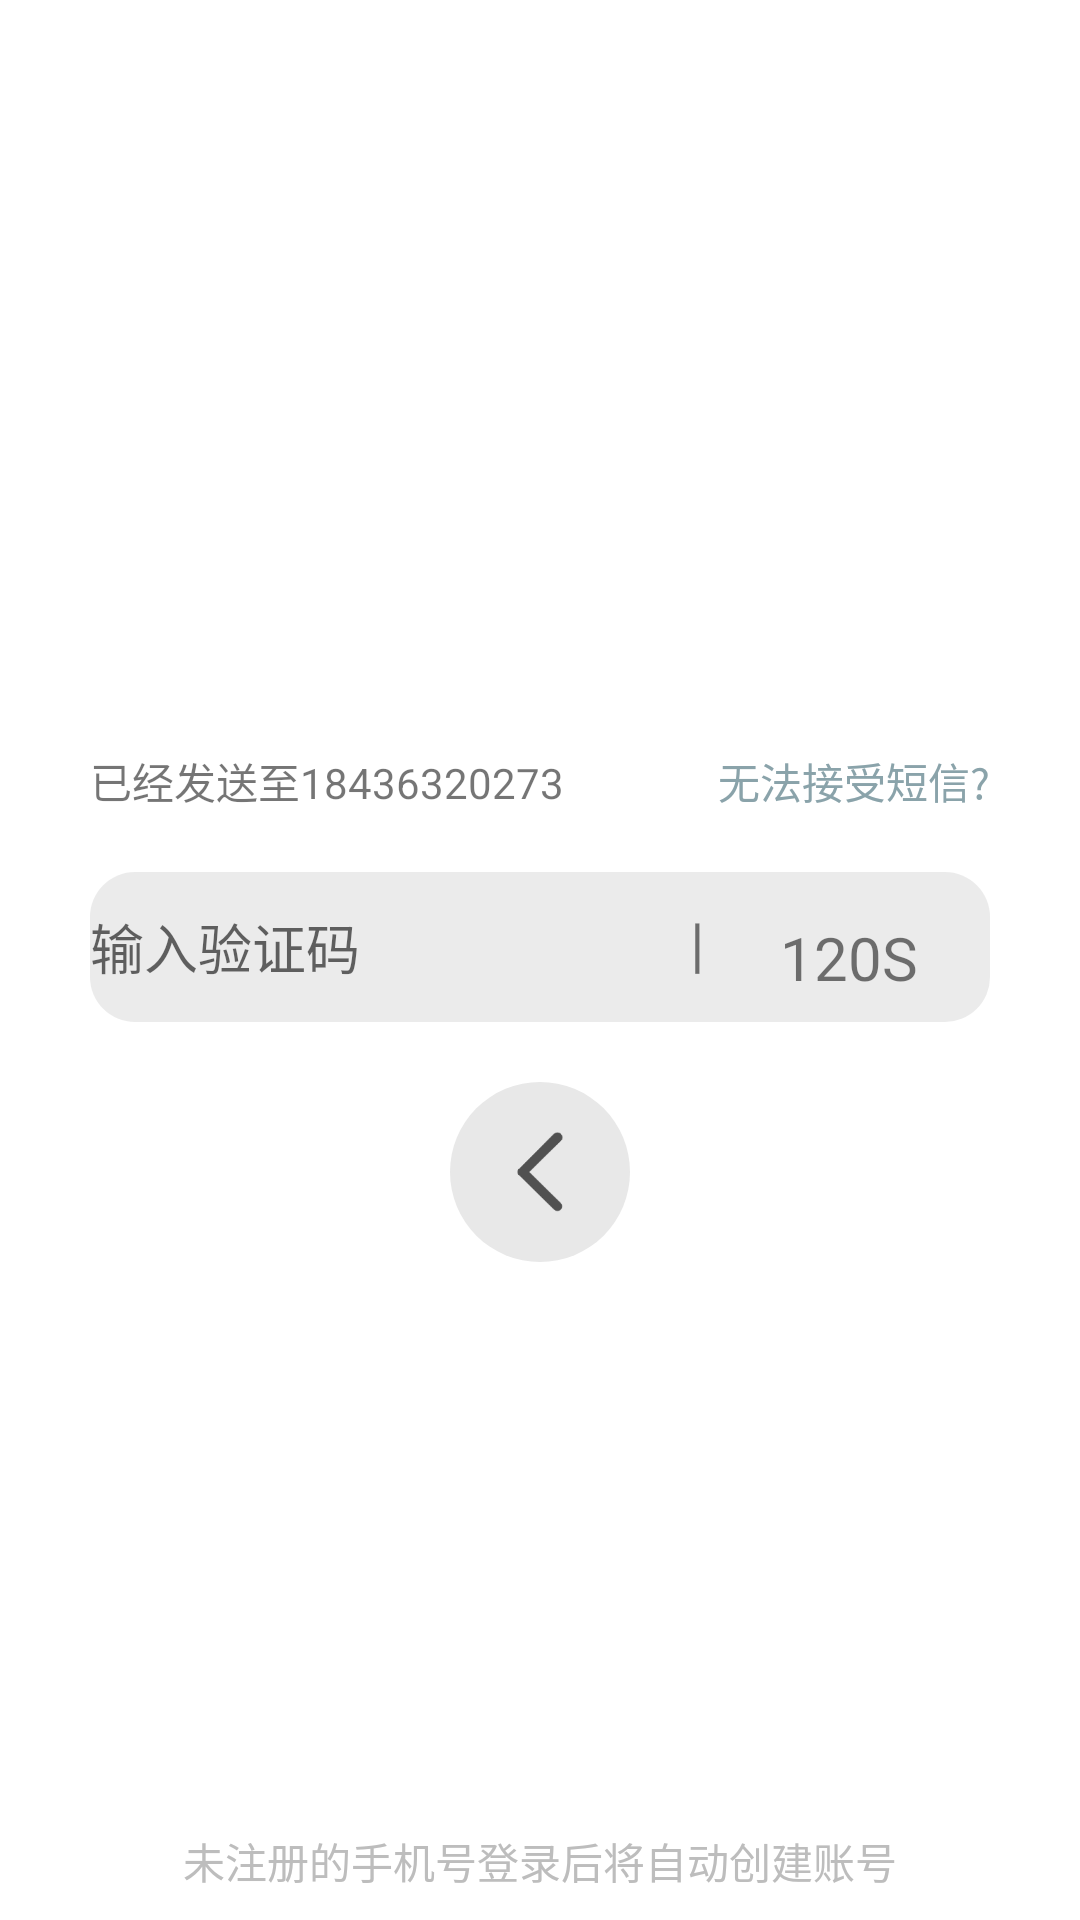

Icon bounding boxes for this 1080*1920 phone screenshot, format (x1, y1, x2, y2):
geci ganhui: (517, 1132, 563, 1211)
